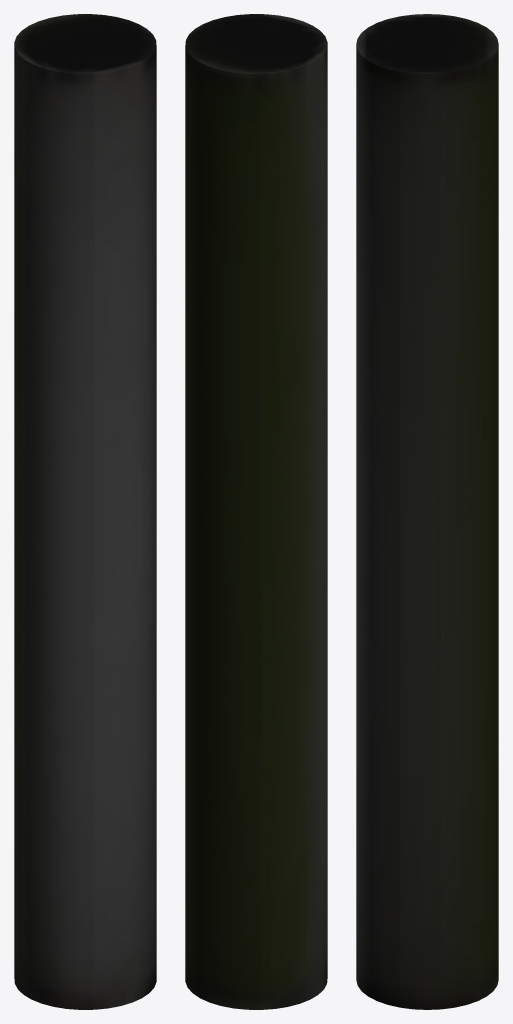
Rendered from right_reel__axle.glb.
3 views of the same model, side by side, from view 1: azimuth 30°, elevation 25°; view 2: azimuth 150°, elevation 25°; view 3: azimuth 270°, elevation 25° (orthographic).
Parts seen in each view (by area): view 1: world; view 2: world; view 3: world.
Part boxes in pixels (x1,y1,x2,y2): world: (14, 14, 156, 1009); world: (185, 14, 327, 1009); world: (356, 14, 498, 1009).
Size of the model in its own units: 0.02 by 0.145 by 0.02.
1 material, 1 textured.
